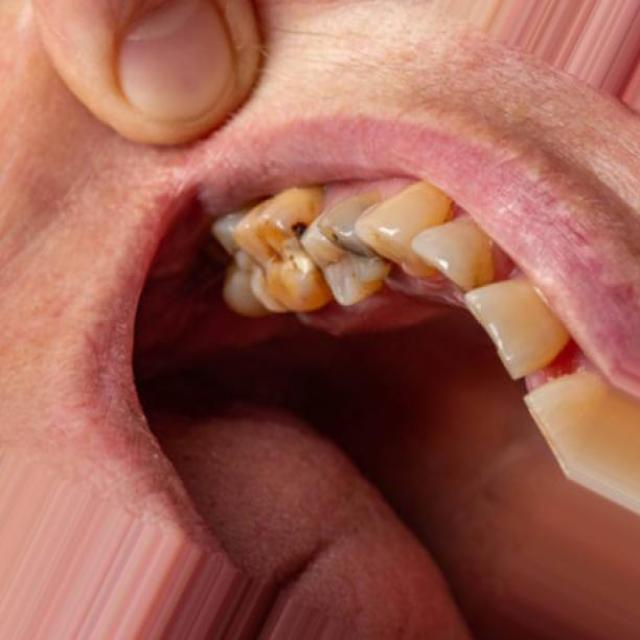caries: (323, 213, 365, 285), (279, 204, 320, 261), (257, 238, 299, 283)
